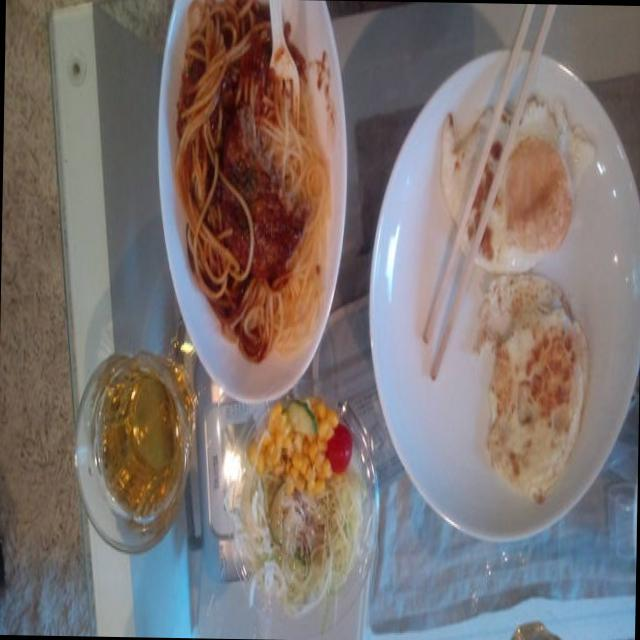Egg: (438, 104, 580, 275)
Pasta: (181, 9, 323, 357)
